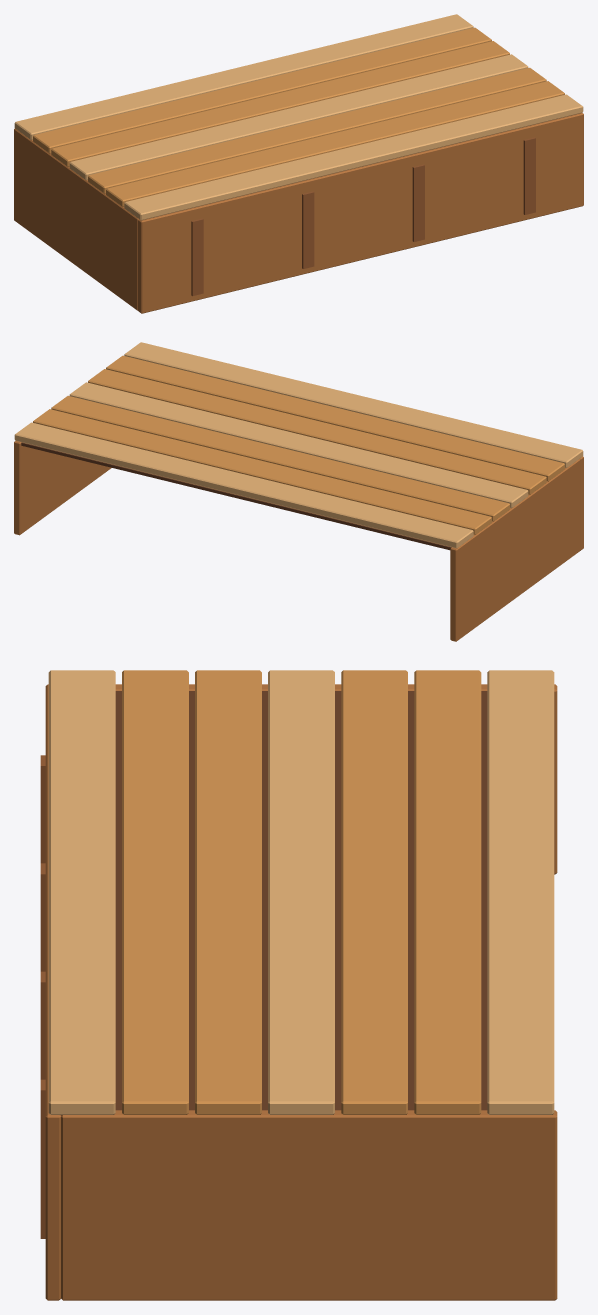
File: deck_2x1m_h45.glb
3 views of the same model, one above another, from view 1: azimuth 30°, elevation 25°; view 2: azimuth 150°, elevation 25°; view 3: azimuth 270°, elevation 25° (orthographic). The views are drawn at different scales.
Visible parts, largest first — view 1: deck_2x1m_h45; view 2: deck_2x1m_h45; view 3: deck_2x1m_h45.
Part boxes in pixels (<box>): deck_2x1m_h45: <box>14,14,583,313</box>; deck_2x1m_h45: <box>14,342,583,641</box>; deck_2x1m_h45: <box>40,670,557,1300</box>.
Size of the model in its own units: 2 by 0.43 by 1.01.
Materials: 1 (1 with a texture image).
